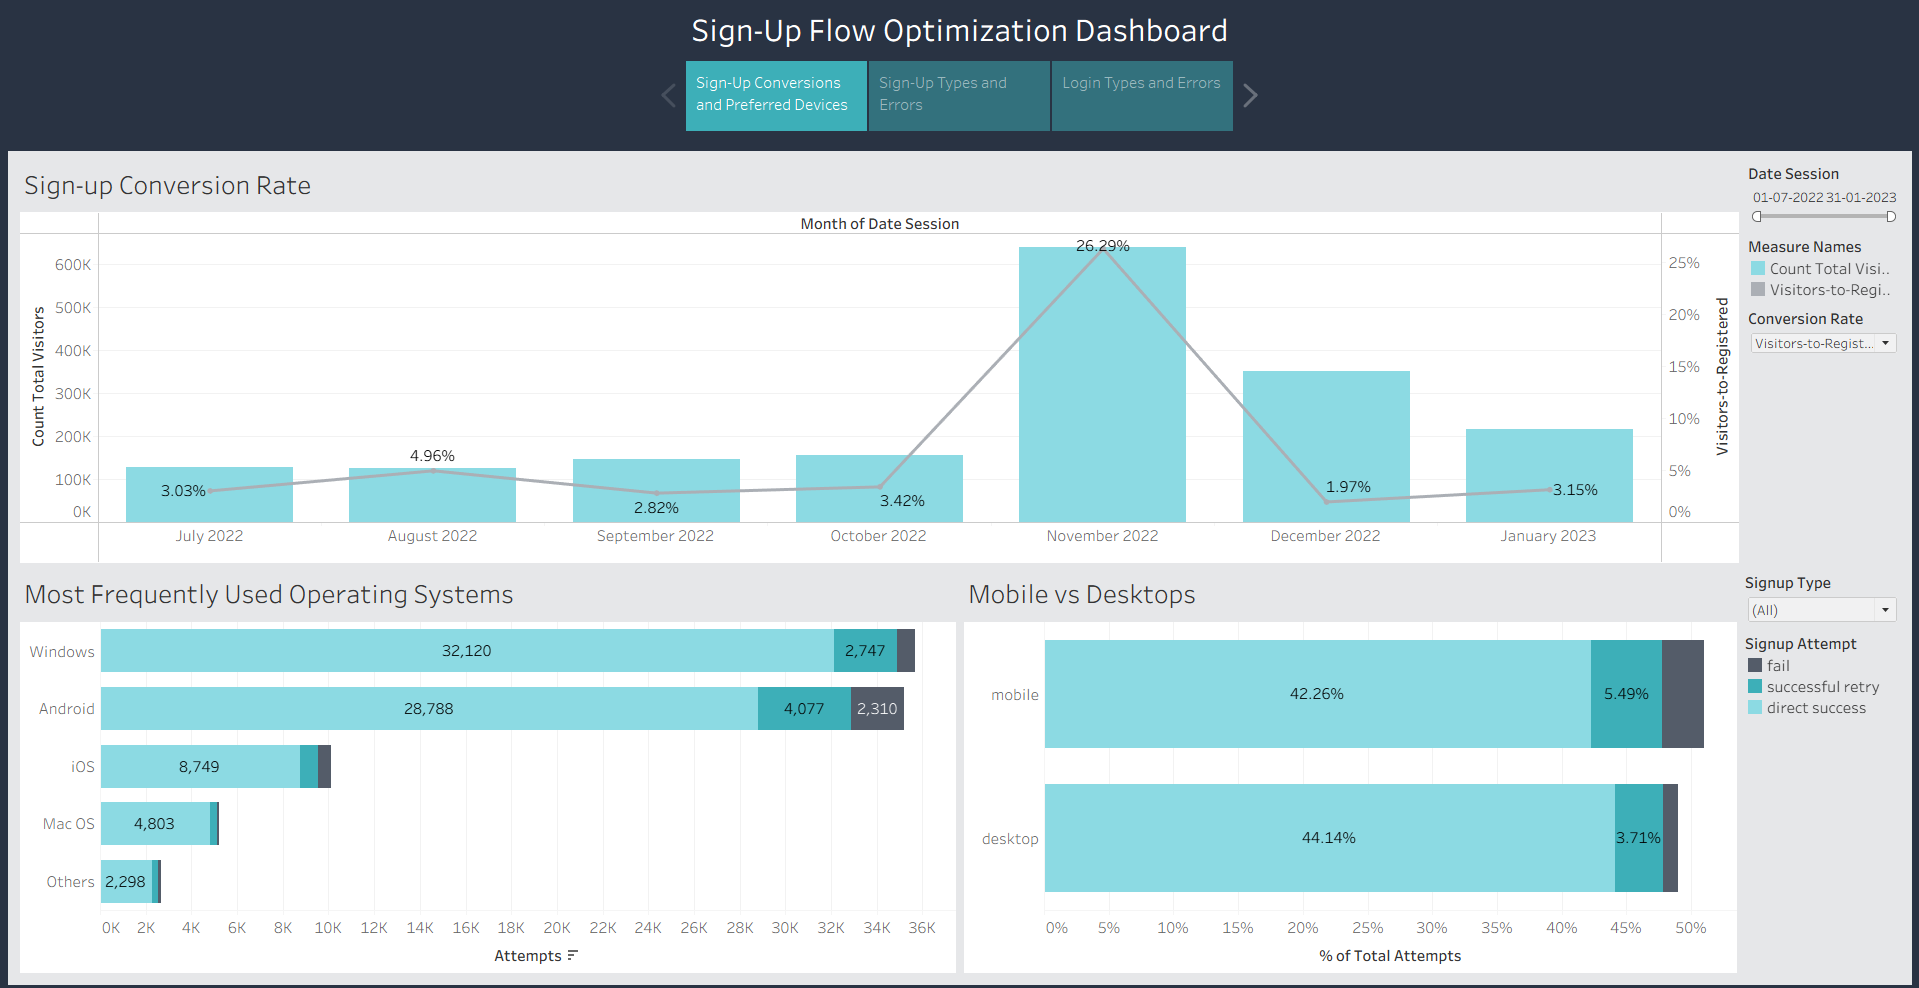

The dashboard page shown, as its layout file describes it:
{"tool":"tableau","page":{"name":"Sign up Conversions","canvas":[1000,1000],"units":"permille","ordinal":1},"visuals":[{"type":"worksheet","title":"Visitors-to-Registered","mark":"Bar","rows":["count_total_visitors","Calculation_564638856154841088"],"cols":["date_session"],"box":[4.8,10,893.7,488.7]},{"type":"filter","title":"Visitors-to-Registered","param":"[federated.01d1b7e0f9s5cf1fm01070i2kven].[none:date_session:qk]","box":[898.6,10,96.6,91.1]},{"type":"legend","title":"Visitors-to-Registered","param":"[federated.01d1b7e0f9s5cf1fm01070i2kven].[:Measure Names]","box":[898.6,101.1,96.6,89.9]},{"type":"parameter","param":"[Parameters].[Parameter 1]","box":[898.6,191,96.6,69.9]},{"type":"worksheet","title":"Visitors-to-free","mark":"Bar","rows":["count_total_visitors","Calculation_564638856155086849"],"cols":["date_session"],"box":[4.8,498.7,893.7,1.2]},{"type":"worksheet","title":"Operating Systems","mark":"Automatic","cols":["Calculation_564638856160370690"],"box":[4.8,500,495.2,490]},{"type":"worksheet","title":"Devices","mark":"Automatic","rows":["device"],"box":[500,500,409.5,490]},{"type":"filter","title":"Operating Systems","param":"[federated.1y0hurk0js6cer157yo0h0cszkip].[none:signup_type:nk]","box":[909.5,500,85.7,76.2]},{"type":"legend","title":"Devices","param":"[federated.1y0hurk0js6cer157yo0h0cszkip].[none:signup_attempt:nk]","box":[909.5,576.1,85.7,116.1]}]}

Visuals, with their boxes on the dashboard's canvas, which has no fixed pixel size, in thousandths of its width and height (x1, y1, x2, y2). These are canvas units, not pixel positions in the 1919x988 screenshot, which may show the page scaled, cropped or inside an application window:
"Visitors-to-Registered" worksheet (Bar marks): [x1=5, y1=10, x2=898, y2=499]
"Visitors-to-Registered" filter: [x1=899, y1=10, x2=995, y2=101]
"Visitors-to-Registered" legend: [x1=899, y1=101, x2=995, y2=191]
parameter: [x1=899, y1=191, x2=995, y2=261]
"Visitors-to-free" worksheet (Bar marks): [x1=5, y1=499, x2=898, y2=500]
"Operating Systems" worksheet: [x1=5, y1=500, x2=500, y2=990]
"Devices" worksheet: [x1=500, y1=500, x2=910, y2=990]
"Operating Systems" filter: [x1=910, y1=500, x2=995, y2=576]
"Devices" legend: [x1=910, y1=576, x2=995, y2=692]
